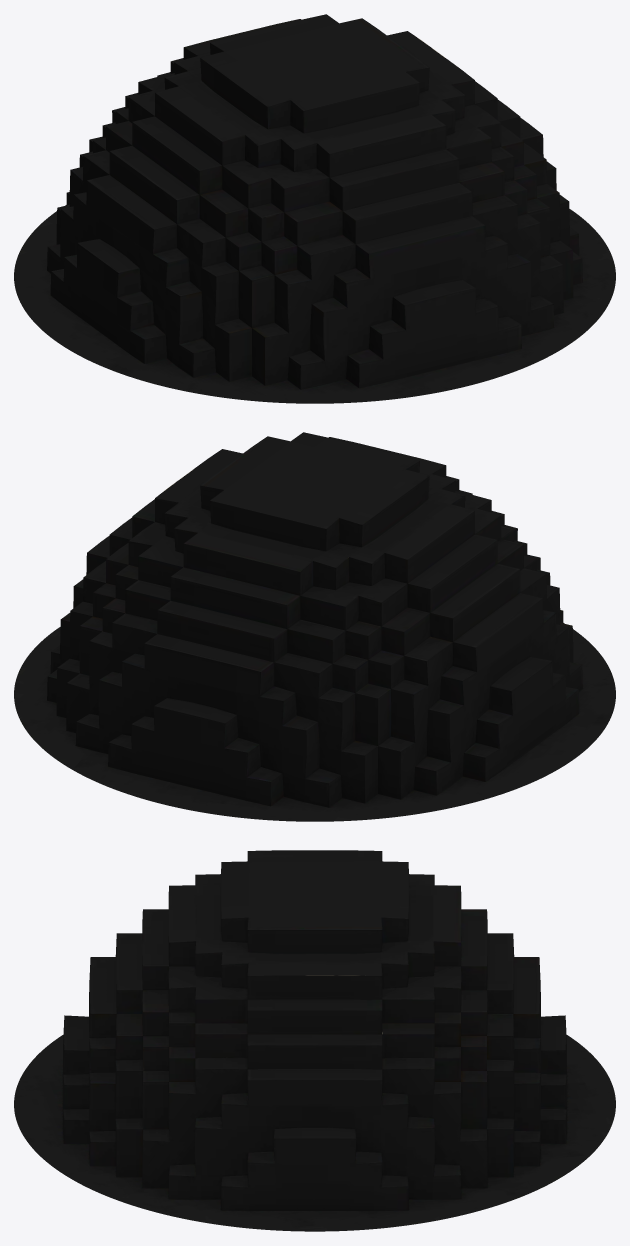
Rendered from exhibition_videopoems_webp.glb.
3 views of the same model, one above another, from view 1: azimuth 30°, elevation 25°; view 2: azimuth 150°, elevation 25°; view 3: azimuth 270°, elevation 25° (orthographic).
Visible parts, largest first — view 1: Sphere.001, Floor; view 2: Sphere.001, Floor; view 3: Sphere.001, Floor.
Part boxes in pixels (box(x1,y1,x2,y2)): Sphere.001: box(47, 14, 582, 389); Floor: box(14, 205, 615, 403); Sphere.001: box(47, 432, 582, 807); Floor: box(14, 623, 615, 821); Sphere.001: box(63, 850, 566, 1210); Floor: box(14, 1034, 615, 1231).
Bounding box in the file's own units: 26.61 × 10.71 × 26.61.
11 materials, 10 textured.
